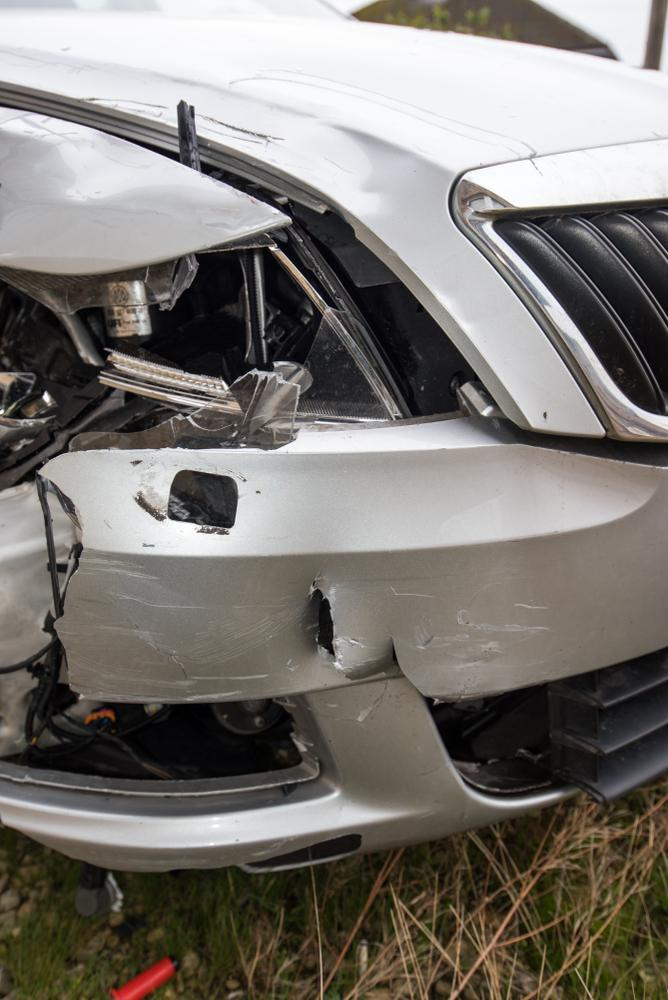crack: (312, 576, 339, 661)
dent: (61, 136, 231, 202), (326, 125, 409, 216)
lamp broken: (0, 230, 401, 486)
scratch: (60, 556, 301, 703), (412, 594, 549, 694)
